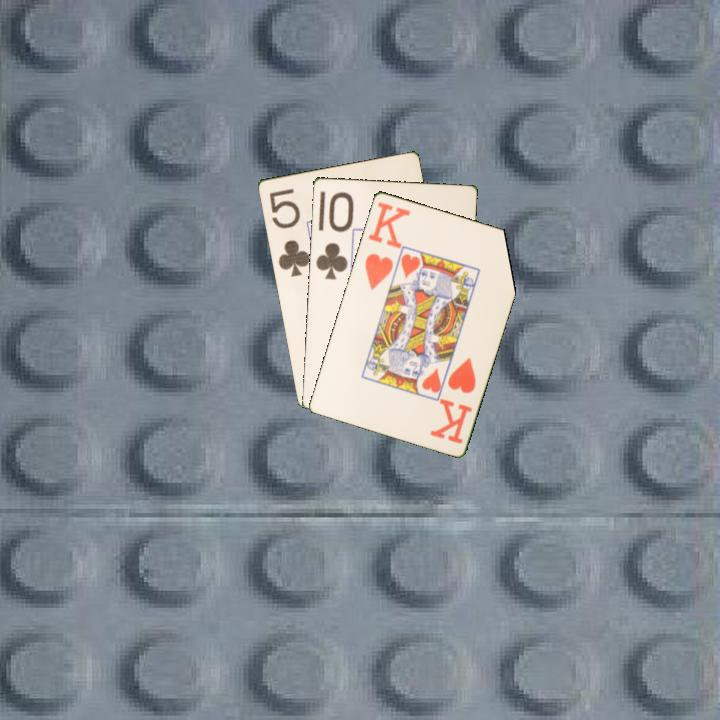10c: (312, 188, 354, 282)
5c: (265, 185, 313, 280)
Kh: (361, 198, 413, 292), (427, 354, 479, 446)
